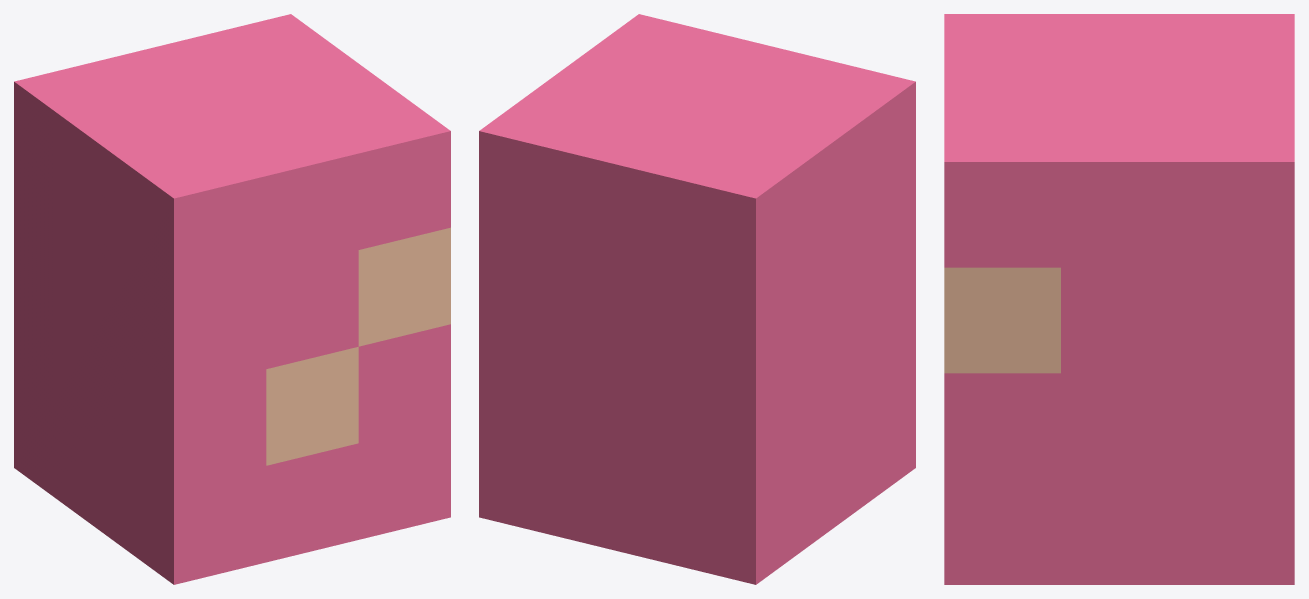
The model's file is blob_c_walk_1.obj.
The picture shows the model from 3 angles, left to right: view 1: azimuth 30°, elevation 25°; view 2: azimuth 150°, elevation 25°; view 3: azimuth 270°, elevation 25°; orthographic projection. The views are drawn at different scales.
Size of the model in its own units: 0.3 by 0.4 by 0.3.
Materials: 1 (1 with a texture image).
